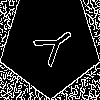Y: (25, 19, 79, 74)
